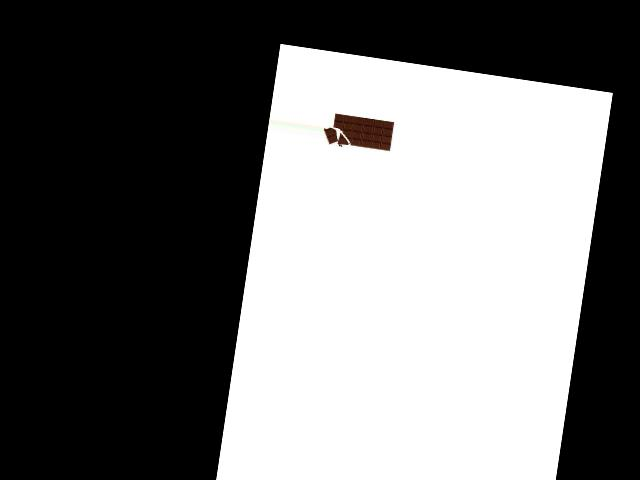chocolate: (320, 107, 395, 160)
